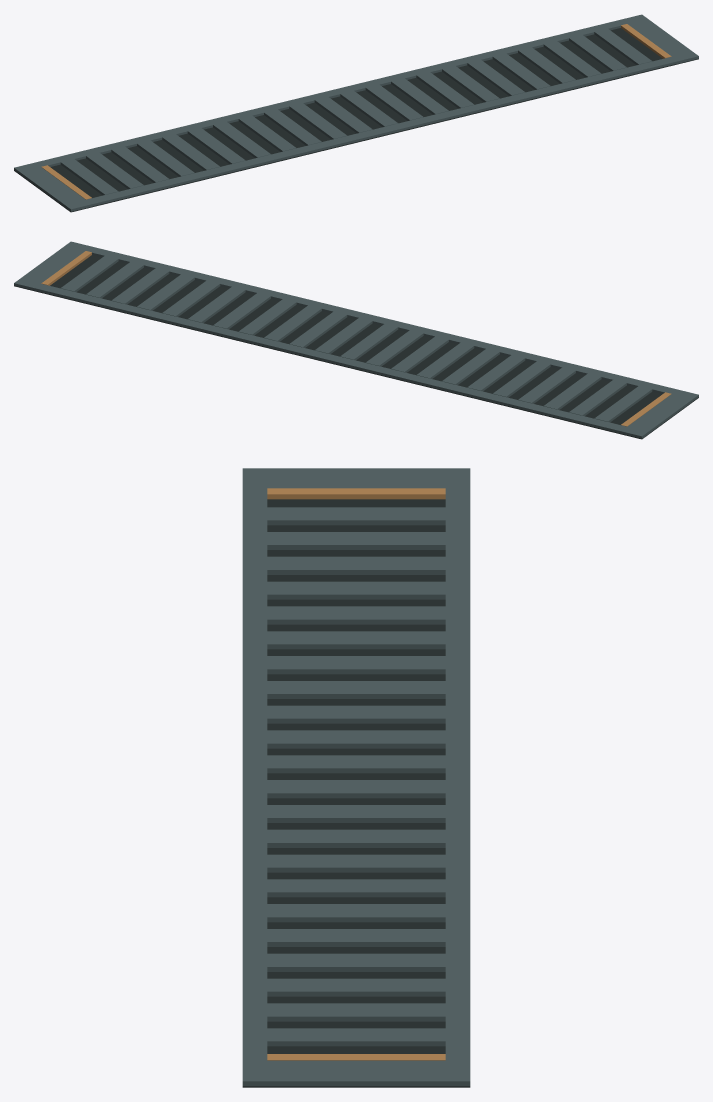
The model's file is e11c-c1-dock-drain-cap.glb.
3 views of the same model, one above another, from view 1: azimuth 30°, elevation 25°; view 2: azimuth 150°, elevation 25°; view 3: azimuth 270°, elevation 25° (orthographic). The views are drawn at different scales.
Parts seen in each view (by area): view 1: e11c-c1-dock-drain-cap; view 2: e11c-c1-dock-drain-cap; view 3: e11c-c1-dock-drain-cap.
Boxes of the visible parts, x1,y1,x2,y2 form: e11c-c1-dock-drain-cap: (14,14,698,212); e11c-c1-dock-drain-cap: (14,241,698,439); e11c-c1-dock-drain-cap: (242,468,470,1087).
Bounding box in the file's own units: 2.1 × 0.011 × 0.33.
